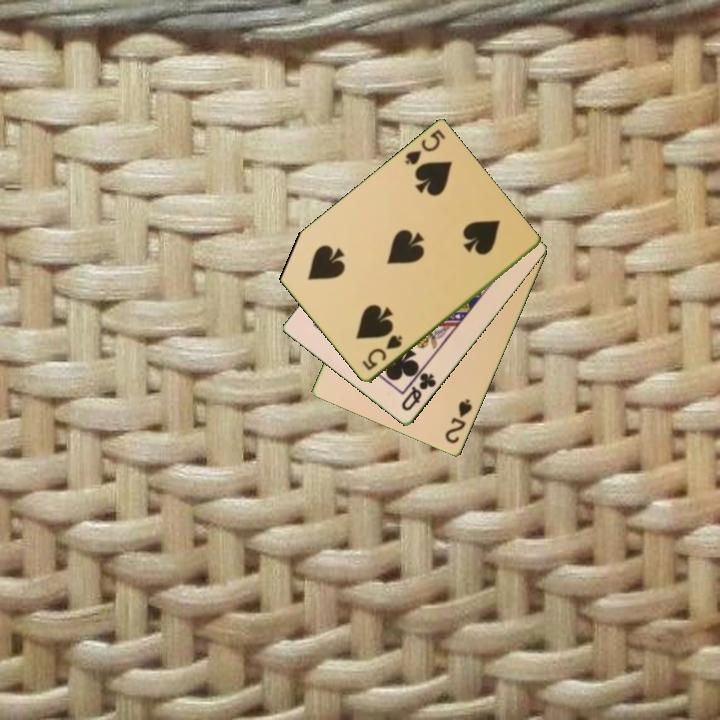2s: (442, 396, 475, 447)
5s: (358, 332, 406, 374), (401, 126, 448, 168)
Qc: (398, 369, 439, 414)
